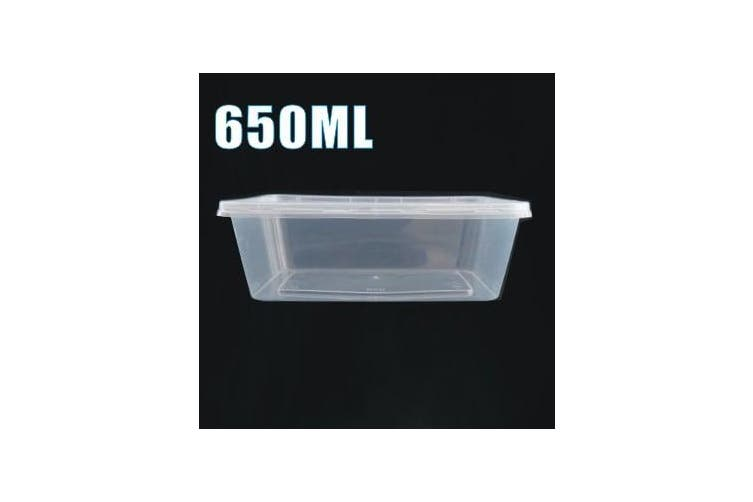PlasticBox: (212, 188, 536, 308)
